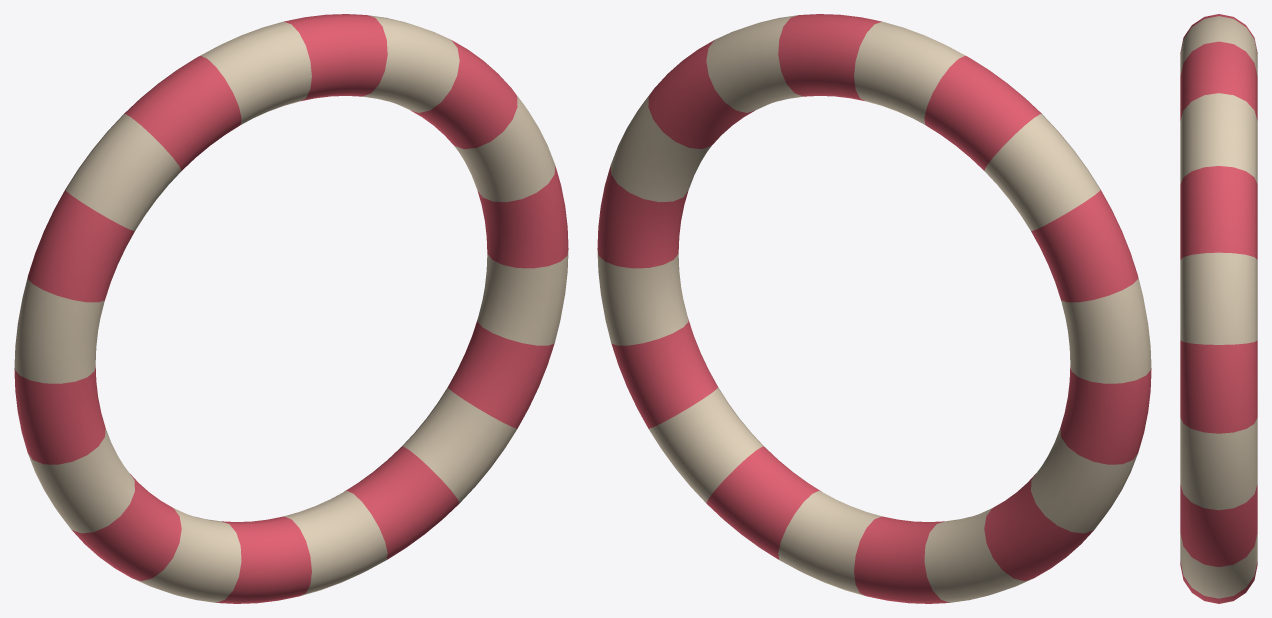
File: race-gate.obj
3 views of the same model, side by side, from view 1: azimuth 30°, elevation 25°; view 2: azimuth 150°, elevation 25°; view 3: azimuth 270°, elevation 25° (orthographic). The views are drawn at different scales.
Visible parts, largest first — view 1: gate; view 2: gate; view 3: gate.
Part boxes in pixels (x1,y1,x2,y2): gate: (14,14,568,603); gate: (597,14,1151,603); gate: (1180,14,1257,603).
Size of the model in its own units: 690 by 690 by 90.
